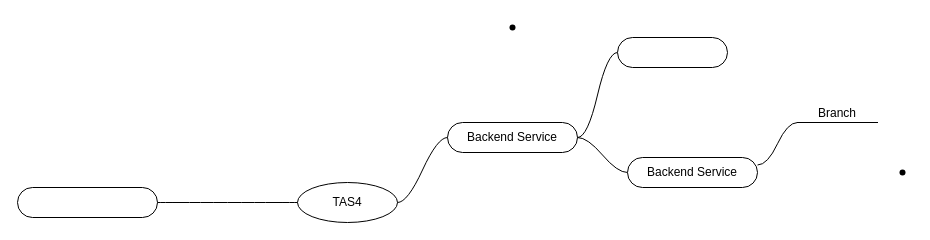
Image size: 930x240. Some labels were removed from this diagram. The centre of each missing label's shape, as x and y in pixels:
Frontend Service: point 87,202
User Service: point 672,52
